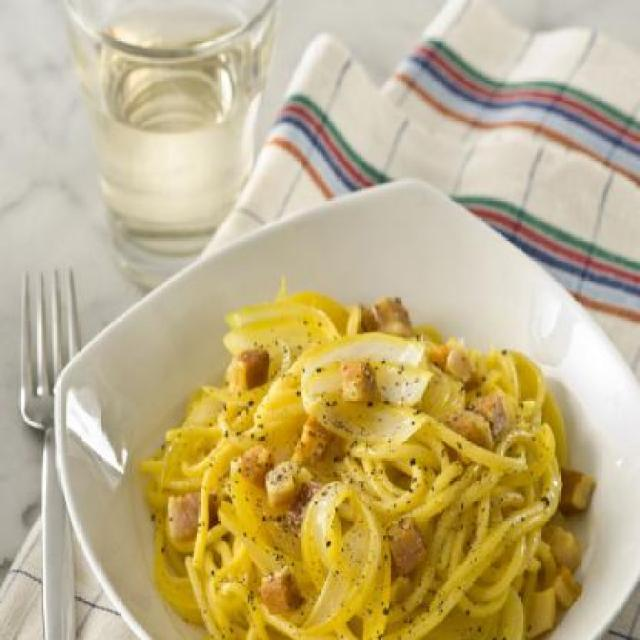Oil pasta: (153, 288, 625, 640)
